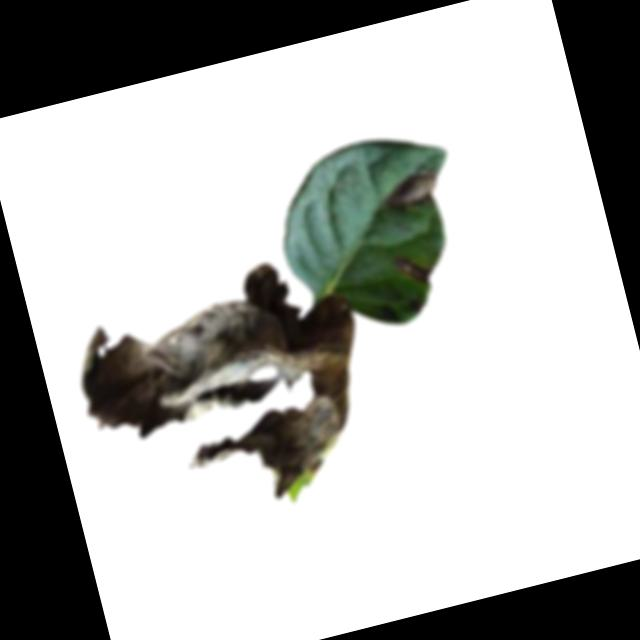Early_blight: (67, 245, 395, 537), (376, 163, 448, 213), (393, 248, 436, 291)
